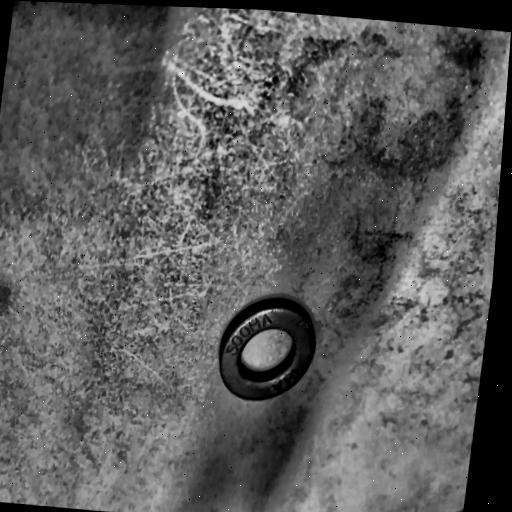Washer: (218, 294, 318, 402)
